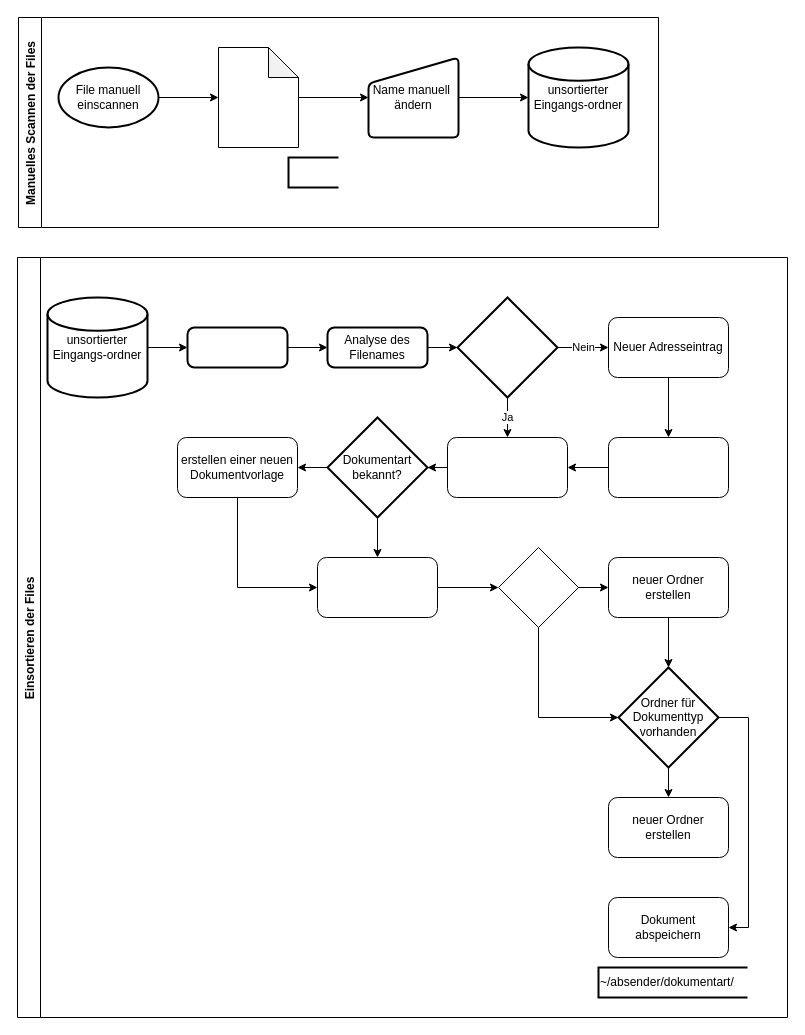
Some shapes in this 805 by 1035 pixel diagram are drawn without their labels. Each missing label, with the centre of its shape:
Absendername bekannt ?: pixel 507 347
absendername_dokumentname_datum.tiff: pixel 313 172
Abspeichern: pixel 668 467
automatisches Befüllen der Felder aus Absender: pixel 507 467
Dokument wird angewählt: pixel 237 347
File mit computer-generirtem Namen: pixel 258 97
ist Ordner für Absender vorhanden: pixel 538 587
manuelles Befüllen der Dokumentvorlage: pixel 377 587
